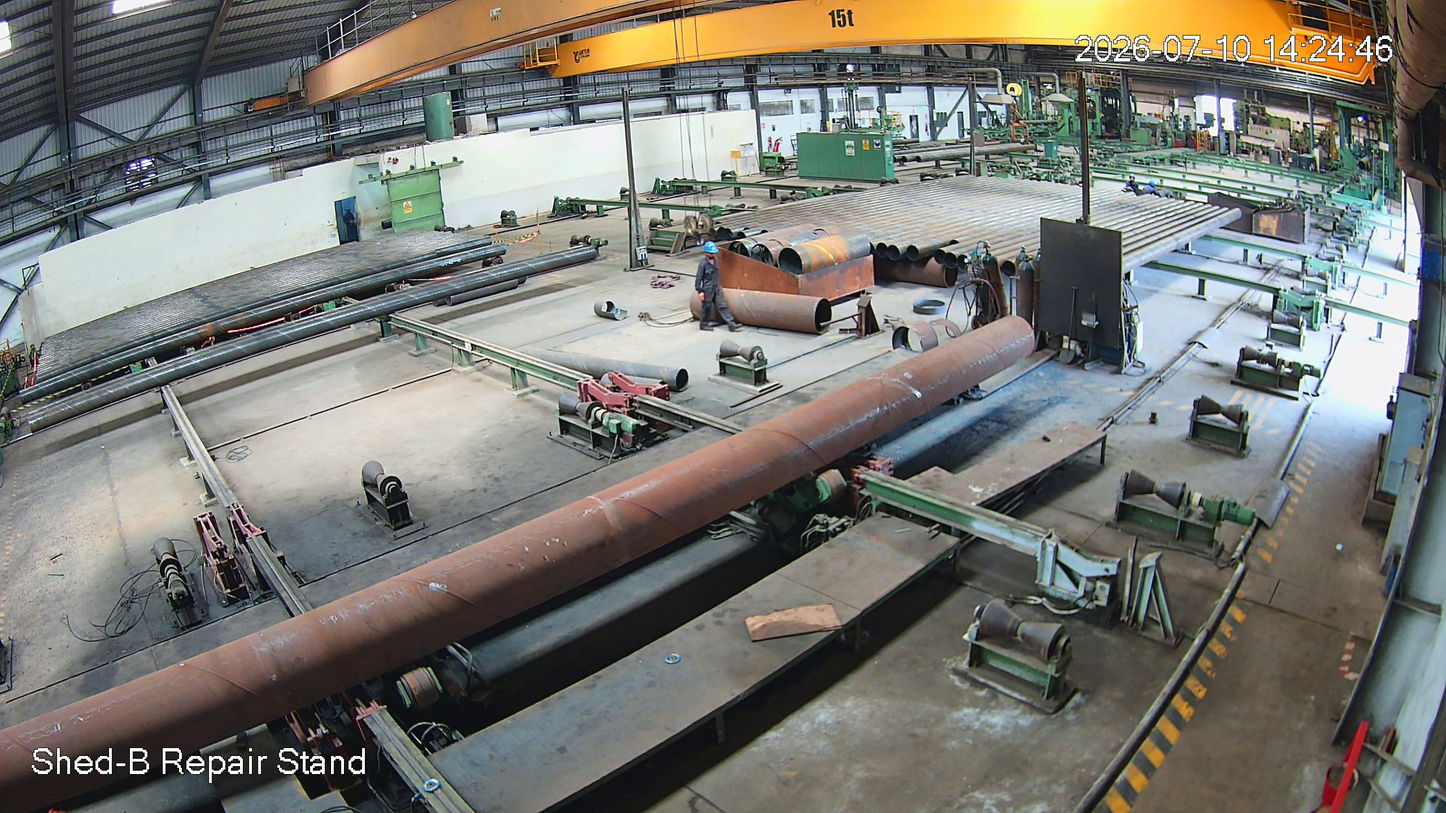Helmet: (702, 237, 718, 264)
Person: (697, 239, 724, 334)
